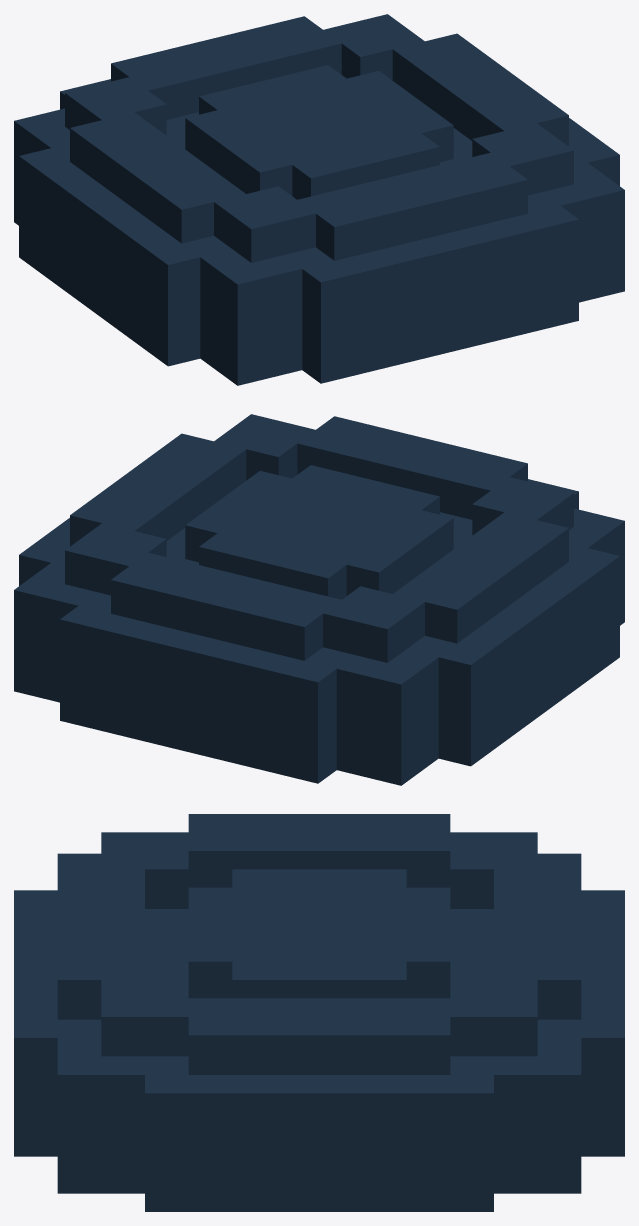
The model's file is man-v4-blue.gltf.
The picture shows the model from 3 angles, top to bottom: view 1: azimuth 30°, elevation 25°; view 2: azimuth 150°, elevation 25°; view 3: azimuth 270°, elevation 25°; orthographic projection. The views are drawn at different scales.
Visible parts, largest first — view 1: Untitled; view 2: Untitled; view 3: Untitled.
Part boxes in pixels (<box>): Untitled: <box>14,14,624,385</box>; Untitled: <box>14,414,624,785</box>; Untitled: <box>14,814,624,1211</box>.
Bounding box in the file's own units: 1.4 × 0.4 × 1.4.
Materials: 1 (1 with a texture image).
